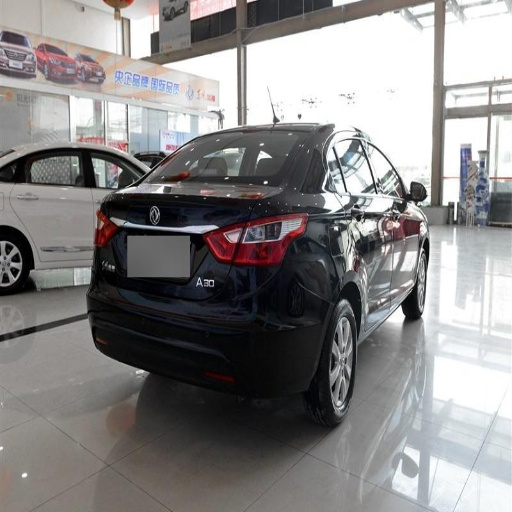back_bumper: (88, 257, 330, 398)
back_right_door: (331, 134, 390, 323), (9, 152, 82, 258)
tailgate: (105, 179, 258, 300)
